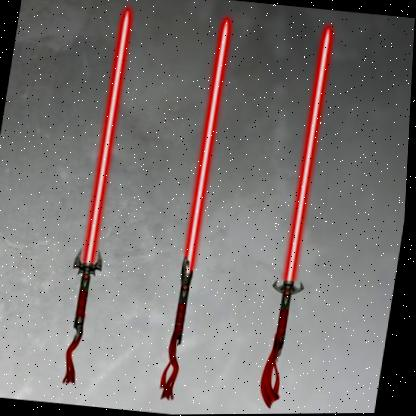sith_lightsaber: (145, 12, 243, 405), (50, 1, 145, 388), (253, 20, 340, 413)
